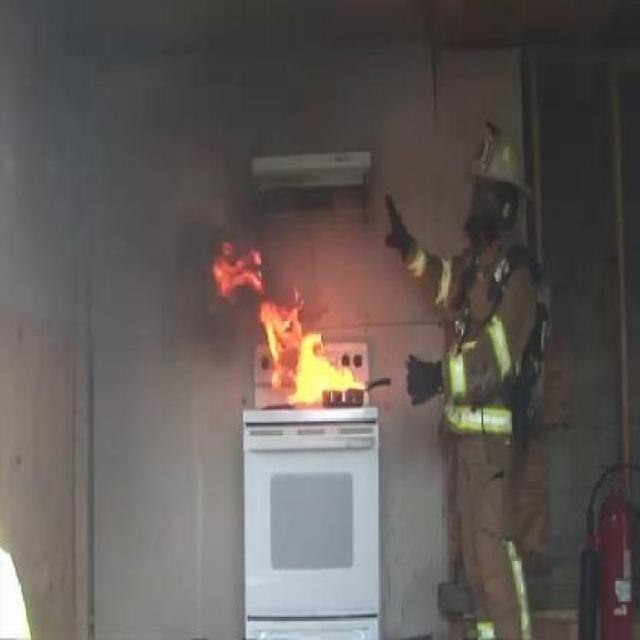fire: (252, 298, 356, 391), (208, 240, 264, 292)
